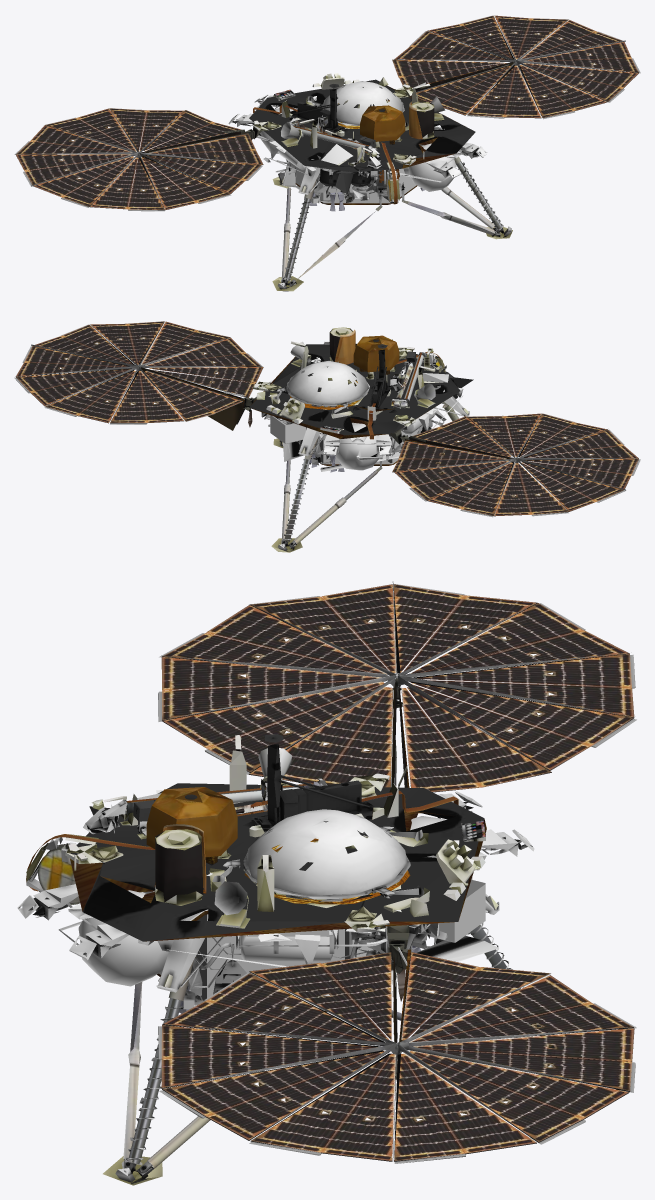
The model's file is insight_lod1.glb.
3 views of the same model, one above another, from view 1: azimuth 30°, elevation 25°; view 2: azimuth 150°, elevation 25°; view 3: azimuth 270°, elevation 25° (orthographic). The views are drawn at different scales.
Visible parts, largest first — view 1: insight_lod1; view 2: insight_lod1; view 3: insight_lod1.
Part boxes in pixels (x1=…): insight_lod1: x1=14, y1=15, x2=640, y2=291; insight_lod1: x1=14, y1=321, x2=640, y2=552; insight_lod1: x1=17, y1=581, x2=636, y2=1185.
Bounding box in the file's own units: 6 × 1.54 × 2.71.
Materials: 14 (10 with a texture image).
